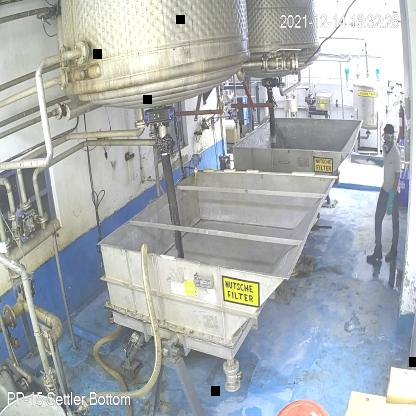goggles: (379, 132, 394, 141)
mask: (380, 140, 392, 154)
